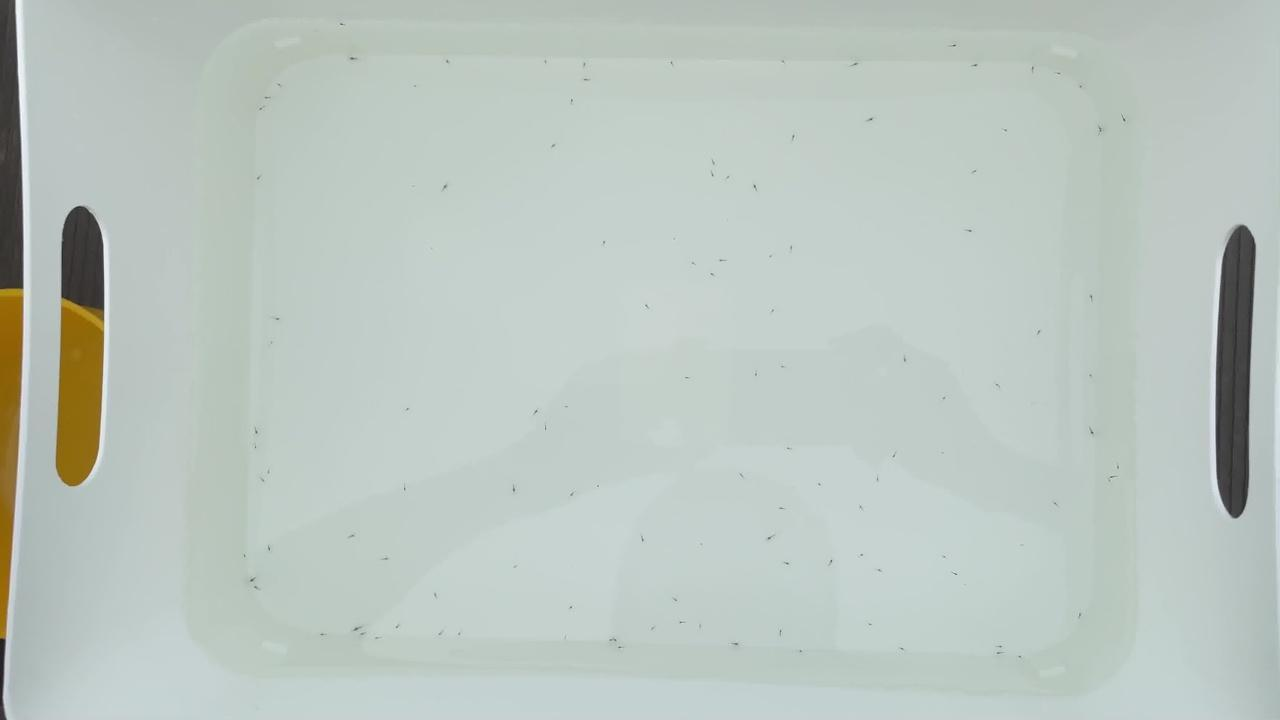shrimp: (993, 645, 1006, 653), (1001, 572, 1014, 580), (888, 451, 901, 459), (1086, 428, 1099, 436), (1088, 295, 1101, 303), (1054, 68, 1067, 76), (851, 58, 864, 66), (273, 80, 286, 88), (644, 306, 657, 314), (750, 368, 763, 376), (734, 473, 747, 481), (774, 628, 787, 636), (794, 644, 807, 652), (673, 617, 686, 625), (670, 595, 683, 603), (613, 644, 626, 652), (560, 633, 573, 641), (566, 606, 579, 614), (261, 545, 274, 553), (314, 628, 327, 636), (510, 561, 523, 569), (895, 645, 907, 653), (779, 506, 791, 514), (945, 395, 957, 403), (695, 622, 707, 630), (252, 429, 264, 437), (263, 467, 275, 475), (380, 556, 392, 564), (993, 648, 1006, 655), (1074, 610, 1087, 617), (959, 580, 972, 587), (948, 570, 961, 577), (941, 555, 954, 562), (874, 564, 887, 571), (853, 549, 866, 556), (827, 556, 840, 563), (780, 560, 793, 567), (764, 537, 777, 544), (816, 482, 829, 489), (855, 503, 868, 510), (1047, 498, 1060, 505), (1106, 475, 1119, 482), (1110, 463, 1123, 470), (1084, 373, 1097, 380), (993, 380, 1006, 387), (895, 354, 908, 361), (1032, 330, 1045, 337), (1092, 127, 1105, 134), (1118, 116, 1131, 123), (968, 61, 981, 68), (947, 45, 960, 52), (998, 125, 1011, 132), (964, 227, 977, 234), (865, 118, 878, 125), (751, 184, 764, 191), (722, 174, 735, 181), (707, 171, 720, 178), (708, 157, 721, 164), (667, 62, 680, 69), (579, 63, 592, 70), (581, 76, 594, 83), (567, 97, 580, 104), (549, 143, 562, 150), (539, 62, 552, 69), (442, 52, 455, 59), (253, 105, 266, 112), (254, 176, 267, 183), (435, 185, 448, 192), (598, 240, 611, 247), (689, 260, 702, 267), (712, 258, 725, 265), (762, 252, 775, 259), (785, 246, 798, 253), (680, 375, 693, 382), (785, 445, 798, 452), (730, 640, 743, 647), (648, 622, 661, 629), (606, 637, 619, 644), (592, 483, 605, 490), (542, 423, 555, 430), (560, 406, 573, 413), (529, 407, 542, 414), (264, 342, 277, 349), (271, 316, 284, 323), (251, 442, 264, 449), (239, 556, 252, 563), (247, 571, 260, 578), (251, 581, 264, 588), (351, 624, 364, 631), (356, 631, 369, 638), (391, 623, 404, 630), (398, 485, 411, 492), (509, 488, 522, 495), (431, 591, 444, 598), (433, 628, 446, 635), (453, 631, 466, 638), (1011, 654, 1023, 661), (862, 621, 874, 628), (873, 478, 885, 485), (1078, 84, 1090, 91), (1028, 66, 1040, 73), (972, 168, 984, 175), (779, 56, 791, 63), (789, 134, 801, 141), (408, 83, 420, 90), (347, 56, 359, 63), (335, 23, 347, 30), (263, 92, 275, 99), (706, 268, 718, 275), (768, 305, 780, 312), (779, 361, 791, 368), (590, 627, 602, 634), (635, 533, 647, 540), (568, 491, 580, 498), (402, 407, 414, 414), (258, 475, 270, 482), (369, 633, 381, 640), (346, 535, 358, 542)
